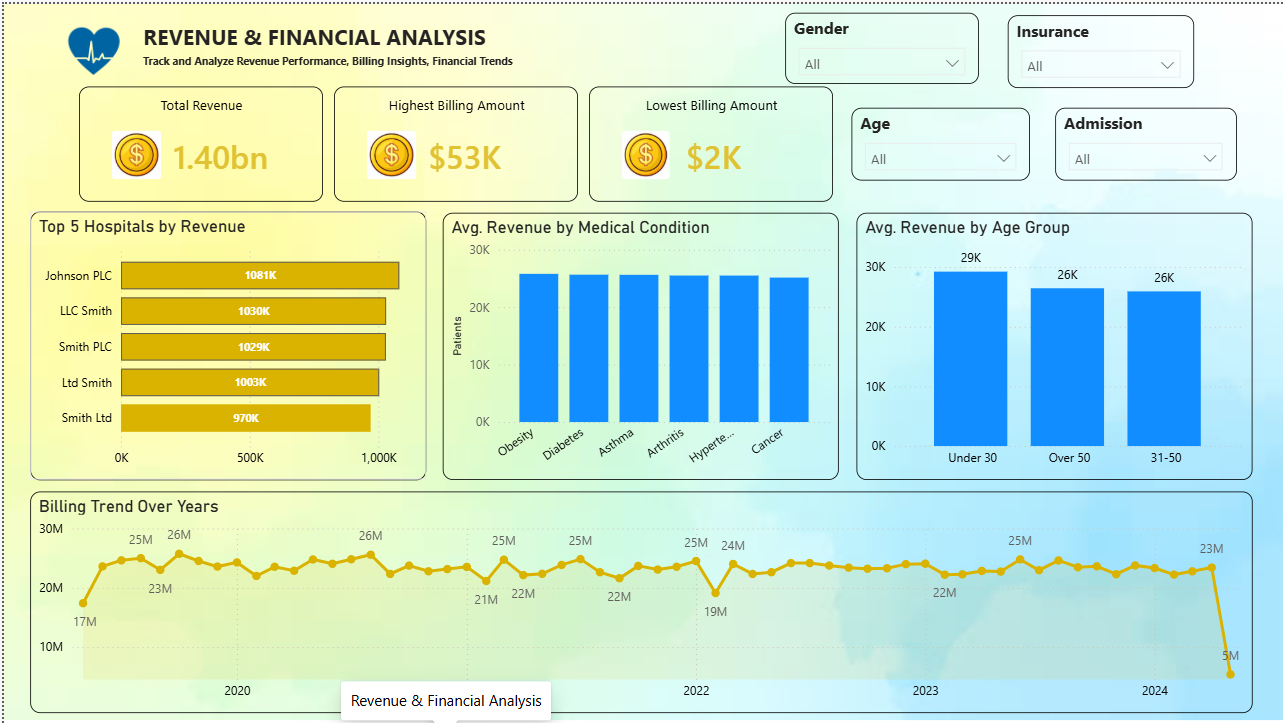

The page's visual inventory and layout, read from the dashboard file:
{"tool":"powerbi","page":{"name":"Revenue & Financial Analysis","canvas":[1280,720],"ordinal":1},"visuals":[{"type":"cardVisual","fields":{"Data":["Max(cleaned_healthcare_dataset.billing_amount)"]},"box":[330,82.5,243.8,115],"z":0},{"type":"slicer","title":"Gender","fields":{"Values":["cleaned_healthcare_dataset.gender"]},"box":[781.2,8.8,193.8,71.2],"z":1000},{"type":"slicer","title":"Age ","fields":{"Values":["cleaned_healthcare_dataset.Age Group"]},"box":[847.5,103.8,178.8,72.5],"z":2000},{"type":"slicer","title":"Admission","fields":{"Values":["cleaned_healthcare_dataset.admission_type"]},"box":[1051.2,103.8,181.2,72.5],"z":3000},{"type":"slicer","title":"Insurance","fields":{"Values":["cleaned_healthcare_dataset.insurance_provider"]},"box":[1003.8,11.2,186.2,72.5],"z":4000},{"type":"clusteredBarChart","title":"Top 5 Hospitals by Revenue","fields":{"Category":["cleaned_healthcare_dataset.hospital"],"Y":["Sum(cleaned_healthcare_dataset.billing_amount)"]},"box":[26.2,207.5,396.2,268.8],"z":5000},{"type":"columnChart","title":"Avg. Revenue by Medical Condition","fields":{"Category":["cleaned_healthcare_dataset.medical_condition"],"Y":["Avg(cleaned_healthcare_dataset.billing_amount)"]},"box":[438.8,208.8,396.2,267.5],"z":6000},{"type":"clusteredColumnChart","title":"Avg. Revenue by Age Group","fields":{"Y":["Avg(cleaned_healthcare_dataset.billing_amount)"],"Category":["cleaned_healthcare_dataset.Age Group"]},"box":[852.5,208.8,396.2,267.5],"z":7000},{"type":"image","box":[40,12.2,99,69.7],"z":8000},{"type":"textbox","box":[98.8,12.5,423.8,73.8],"z":9000},{"type":"cardVisual","fields":{"Data":["Sum(cleaned_healthcare_dataset.billing_amount)"]},"box":[75,82.5,243.8,115],"z":10000},{"type":"cardVisual","fields":{"Data":["Sum(cleaned_healthcare_dataset.billing_amount)"]},"box":[585,82.5,243.8,115],"z":11000},{"type":"lineChart","title":"Billing Trend Over Years","fields":{"Y":["Sum(cleaned_healthcare_dataset.billing_amount)"],"Category":["cleaned_healthcare_dataset.date_of_admission.Variation.Date Hierarchy.Year","cleaned_healthcare_dataset.date_of_admission.Variation.Date Hierarchy.Quarter","cleaned_healthcare_dataset.date_of_admission.Variation.Date Hierarchy.Month"]},"box":[26.2,487.5,1222.5,221.2],"z":12000}]}

Visuals, with their boxes in screenshot pixels (x1, y1, x2, y2), scaled from the page's 1280x720 canvas onto the 1283x723 screenshot:
cardVisual - Max(cleaned_healthcare_dataset.billing_amount): [left=331, top=83, right=575, bottom=198]
"Gender" slicer: [left=783, top=9, right=977, bottom=80]
"Age " slicer: [left=849, top=104, right=1029, bottom=177]
"Admission" slicer: [left=1054, top=104, right=1235, bottom=177]
"Insurance" slicer: [left=1006, top=11, right=1193, bottom=84]
"Top 5 Hospitals by Revenue" clusteredBarChart: [left=26, top=208, right=423, bottom=478]
"Avg. Revenue by Medical Condition" columnChart: [left=440, top=210, right=837, bottom=478]
"Avg. Revenue by Age Group" clusteredColumnChart: [left=854, top=210, right=1252, bottom=478]
image: [left=40, top=12, right=139, bottom=82]
textbox: [left=99, top=13, right=524, bottom=87]
cardVisual - Sum(cleaned_healthcare_dataset.billing_amount): [left=75, top=83, right=320, bottom=198]
cardVisual - Sum(cleaned_healthcare_dataset.billing_amount): [left=586, top=83, right=831, bottom=198]
"Billing Trend Over Years" lineChart: [left=26, top=490, right=1252, bottom=712]
